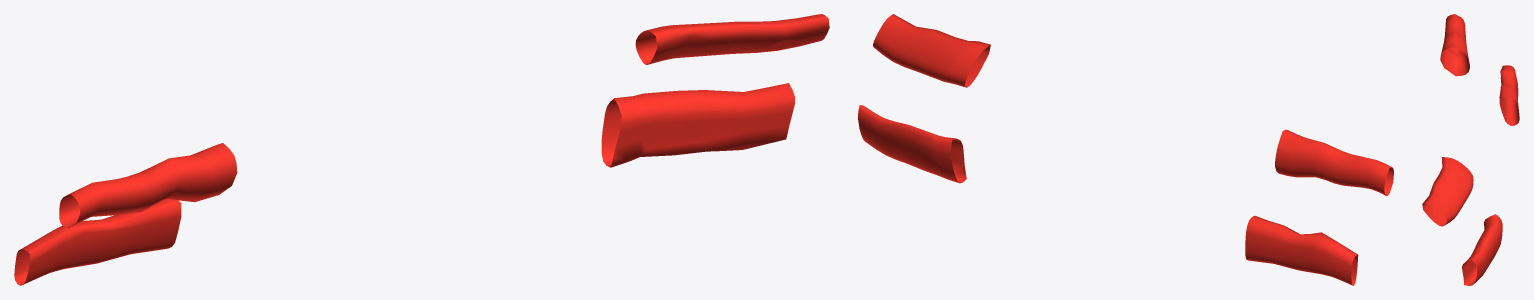
Rendered from  pulmonaryveins.gltf.
3 renders of one model, left to right at view 1: azimuth 30°, elevation 25°; view 2: azimuth 150°, elevation 25°; view 3: azimuth 270°, elevation 25°, orthographic. The views are drawn at different scales.
Parts seen in each view (by area): view 1: Left atrium.009; view 2: Left atrium.009; view 3: Left atrium.009.
Part boxes in pixels (x1,y1,x2,y2): Left atrium.009: [14, 14, 829, 285]; Left atrium.009: [858, 14, 1393, 285]; Left atrium.009: [1422, 14, 1519, 285].
Bounding box in the file's own units: 3.71 × 0.7715 × 0.7476.
